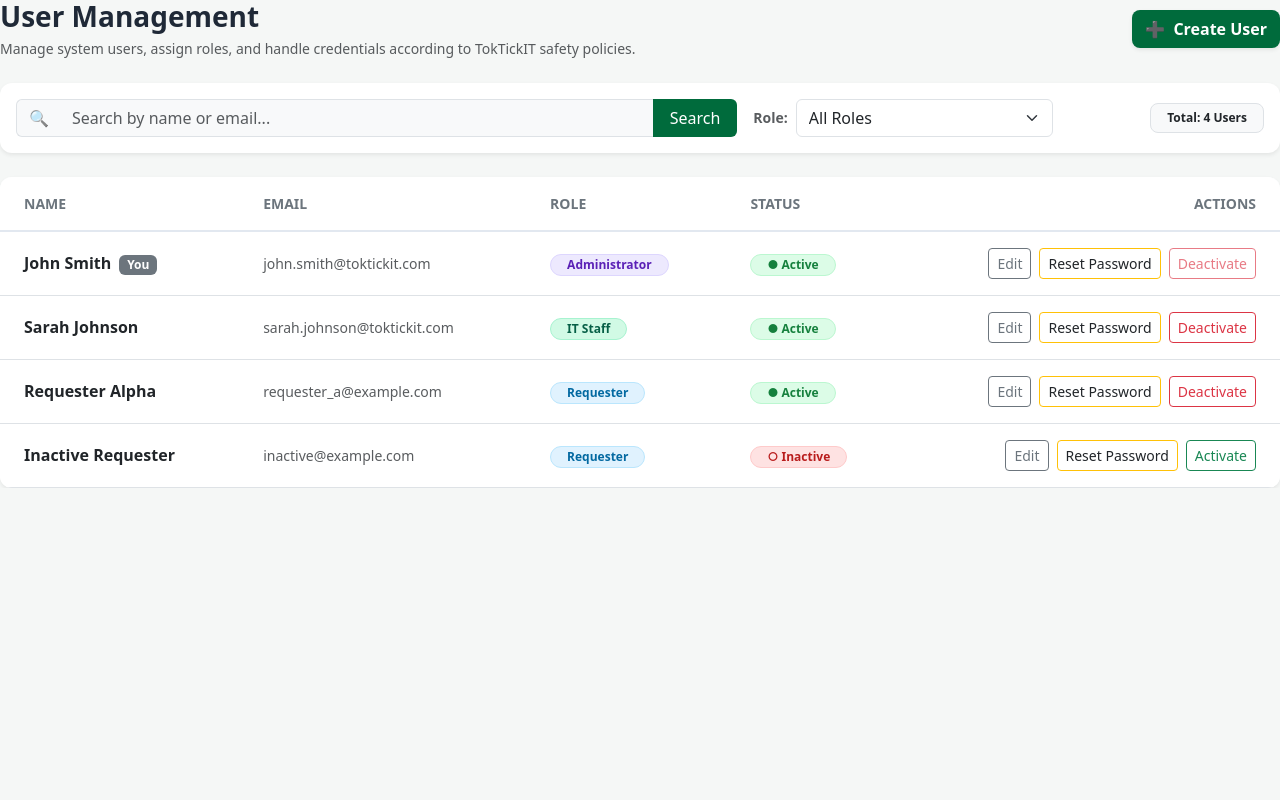
Test: UI-05: Admin User Management Component Tests › enforces Self-Protection in Edit Modal: disables active switch and role for own account
The width and height of the screenshot is (1280, 800).
Click the button with test id "edit-user-btn-1": (1010, 263) left=988, top=248, right=1032, bottom=279
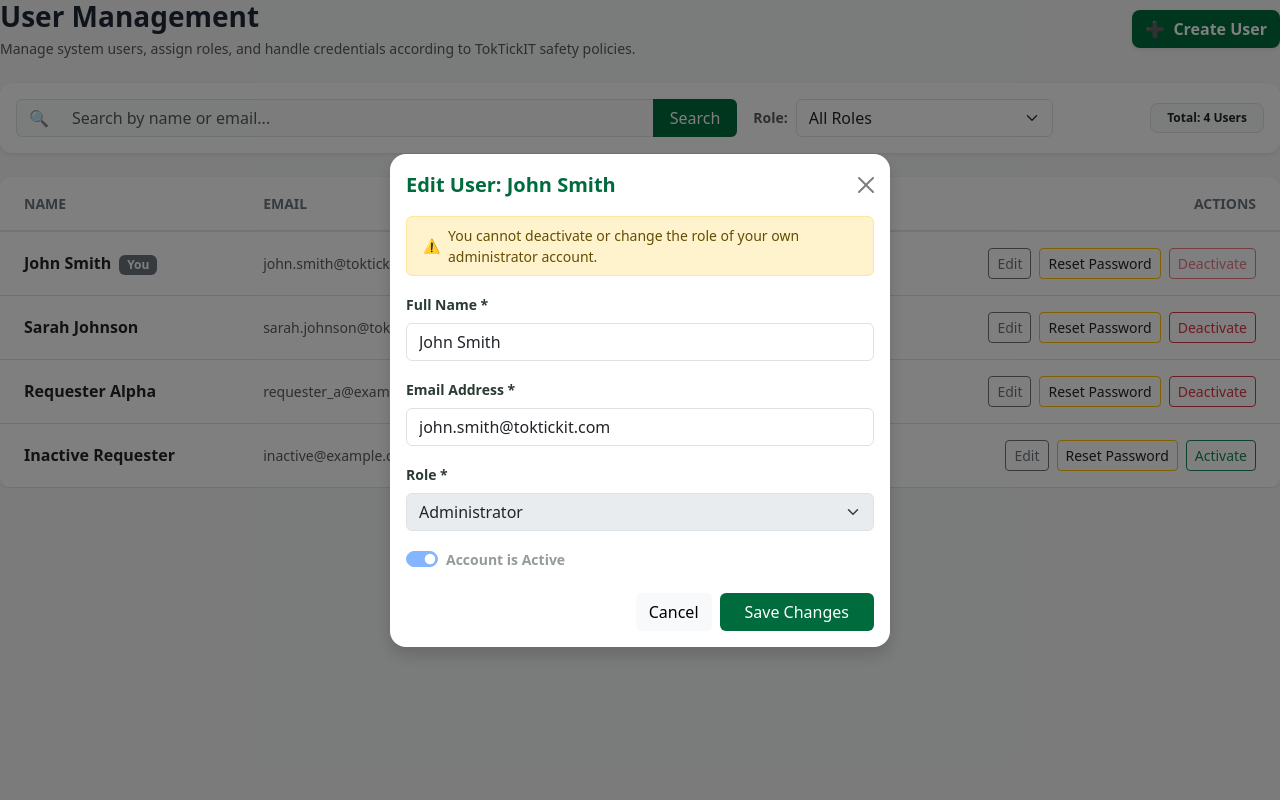
Result: the heading "Edit User: John Smith" is shown at left=406, top=170, right=616, bottom=200
Result: the text "You cannot deactivate or change the role of your own administrator account." is shown at left=448, top=224, right=857, bottom=266
Result: the checkbox with test id "edit-active-switch" is disabled at left=406, top=550, right=438, bottom=566
